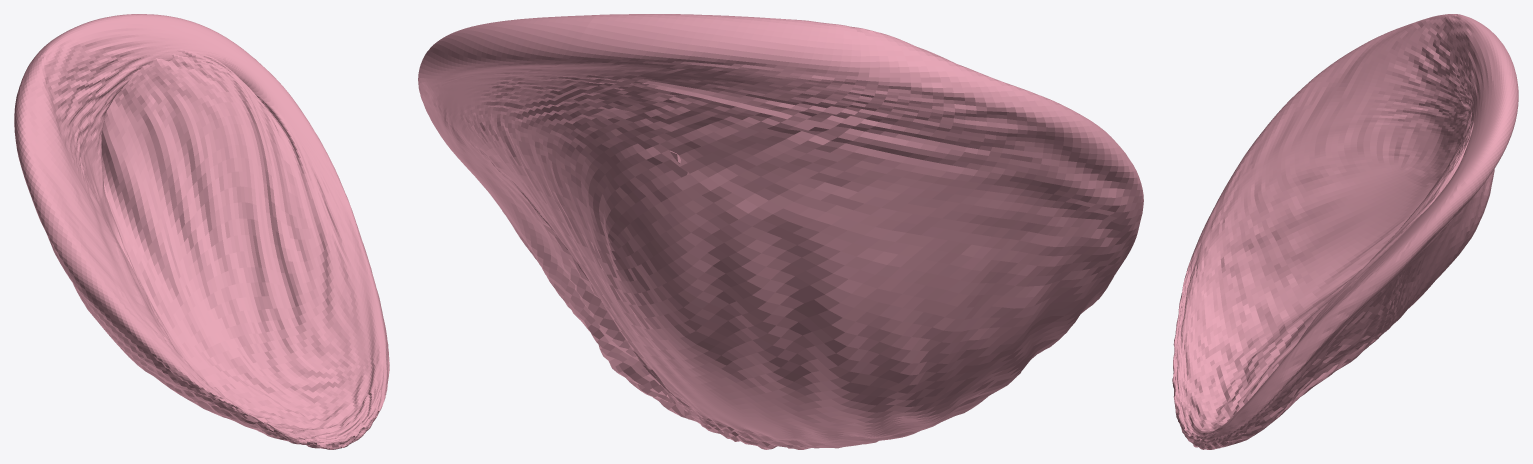
File: flowerpetal.gltf
The picture shows the model from 3 angles, left to right: view 1: azimuth 30°, elevation 25°; view 2: azimuth 150°, elevation 25°; view 3: azimuth 270°, elevation 25°; orthographic projection. The views are drawn at different scales.
Parts seen in each view (by area): view 1: Quad Sphere; view 2: Quad Sphere; view 3: Quad Sphere.
Boxes of the visible parts, x1,y1,x2,y2 form: Quad Sphere: [14, 14, 389, 449]; Quad Sphere: [418, 14, 1143, 449]; Quad Sphere: [1172, 14, 1518, 449].
Size of the model in its own units: 2.45 by 2.51 by 2.26.
